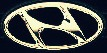Hyundai: (3, 1, 104, 52)
